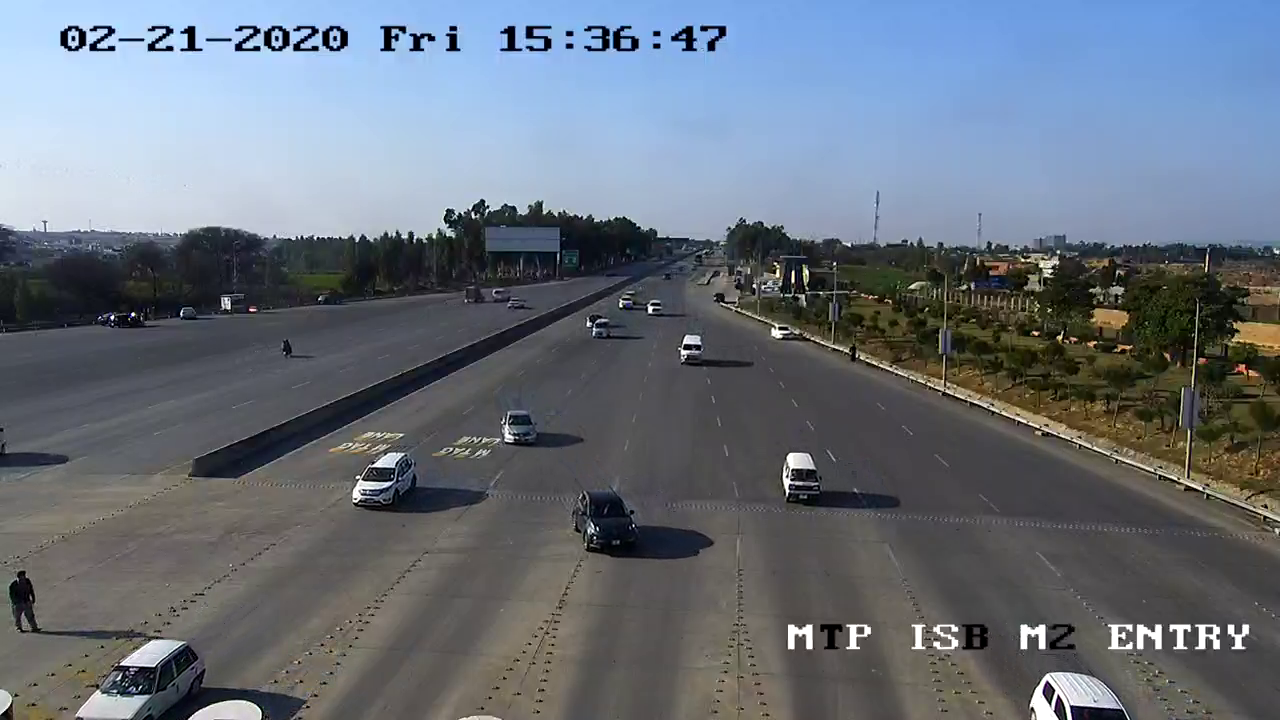f1: (560, 480, 649, 568), (340, 444, 422, 518), (765, 440, 835, 514), (495, 401, 542, 448)
